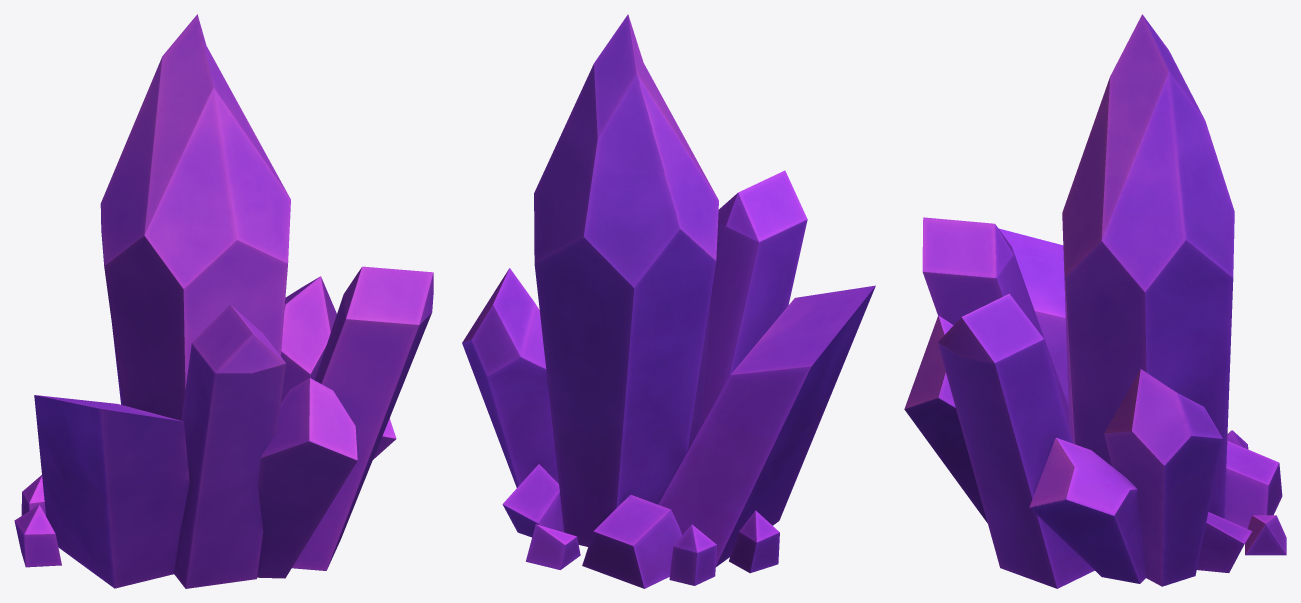
The model's file is Cystal Spike4.glb.
3 renders of one model, left to right at view 1: azimuth 30°, elevation 25°; view 2: azimuth 150°, elevation 25°; view 3: azimuth 270°, elevation 25°, orthographic. The views are drawn at different scales.
Visible parts, largest first — view 1: Crystal Spike.003; view 2: Crystal Spike.003; view 3: Crystal Spike.003.
Boxes of the visible parts, x1=… form: Crystal Spike.003: x1=14, y1=14, x2=433, y2=588; Crystal Spike.003: x1=462, y1=14, x2=875, y2=588; Crystal Spike.003: x1=904, y1=14, x2=1286, y2=588.
Size of the model in its own units: 1.8 by 2.64 by 1.74.
Materials: 1 (1 with a texture image).
